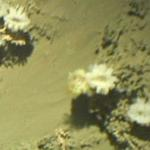alive: (1, 4, 149, 149)
